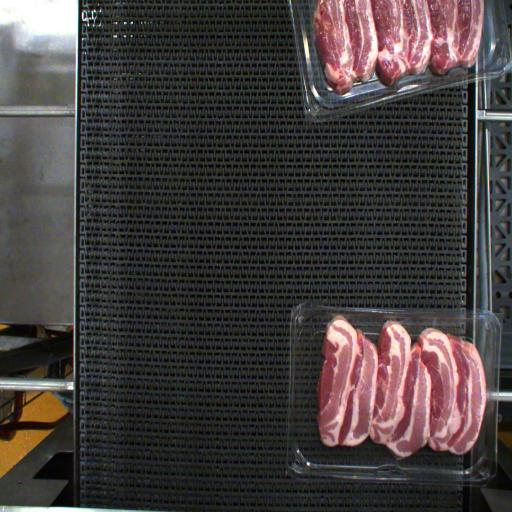packaging-error: (322, 300, 354, 328), (388, 305, 411, 337)
